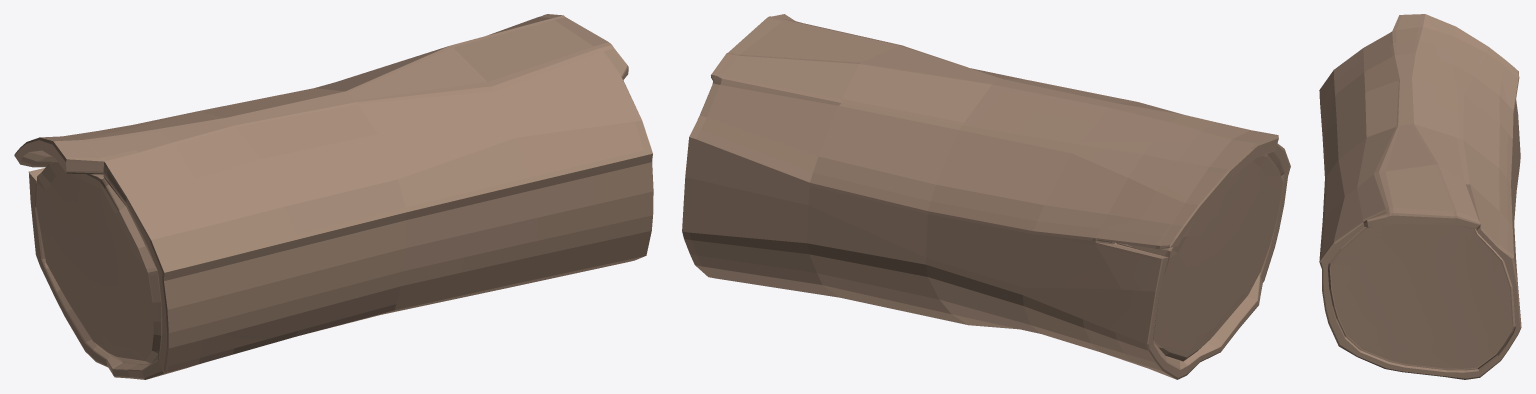
File: LOG_WOOD_PRIM.fbx
The picture shows the model from 3 angles, left to right: view 1: azimuth 30°, elevation 25°; view 2: azimuth 150°, elevation 25°; view 3: azimuth 270°, elevation 25°; orthographic projection. The views are drawn at different scales.
Visible parts, largest first — view 1: LOG_WOOD_PRIM; view 2: LOG_WOOD_PRIM; view 3: LOG_WOOD_PRIM.
Boxes of the visible parts, x1,y1,x2,y2 form: LOG_WOOD_PRIM: [14, 14, 653, 379]; LOG_WOOD_PRIM: [682, 14, 1290, 379]; LOG_WOOD_PRIM: [1319, 14, 1521, 379].
Bounding box in the file's own units: 23.15 × 10.17 × 10.37.
